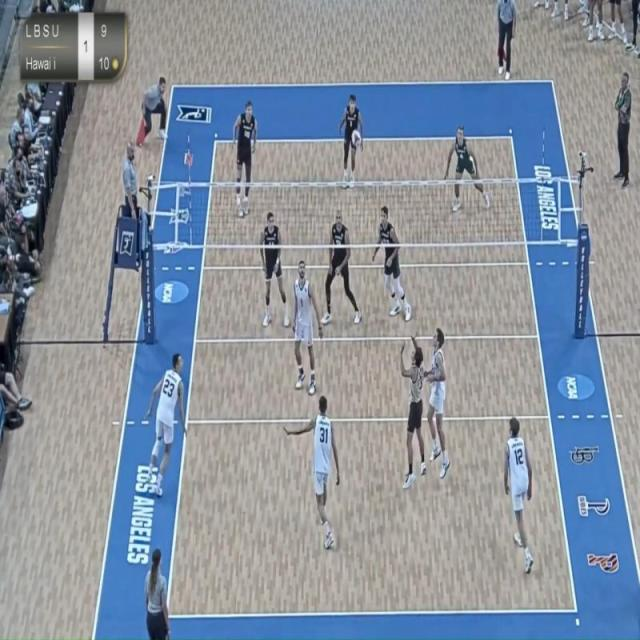volleyball: (350, 125, 363, 151)
